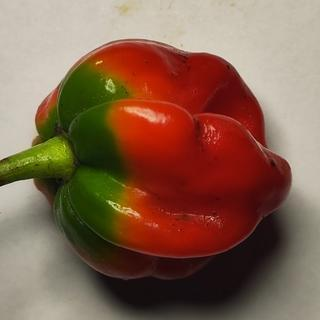Grade-B: (25, 28, 295, 281)
